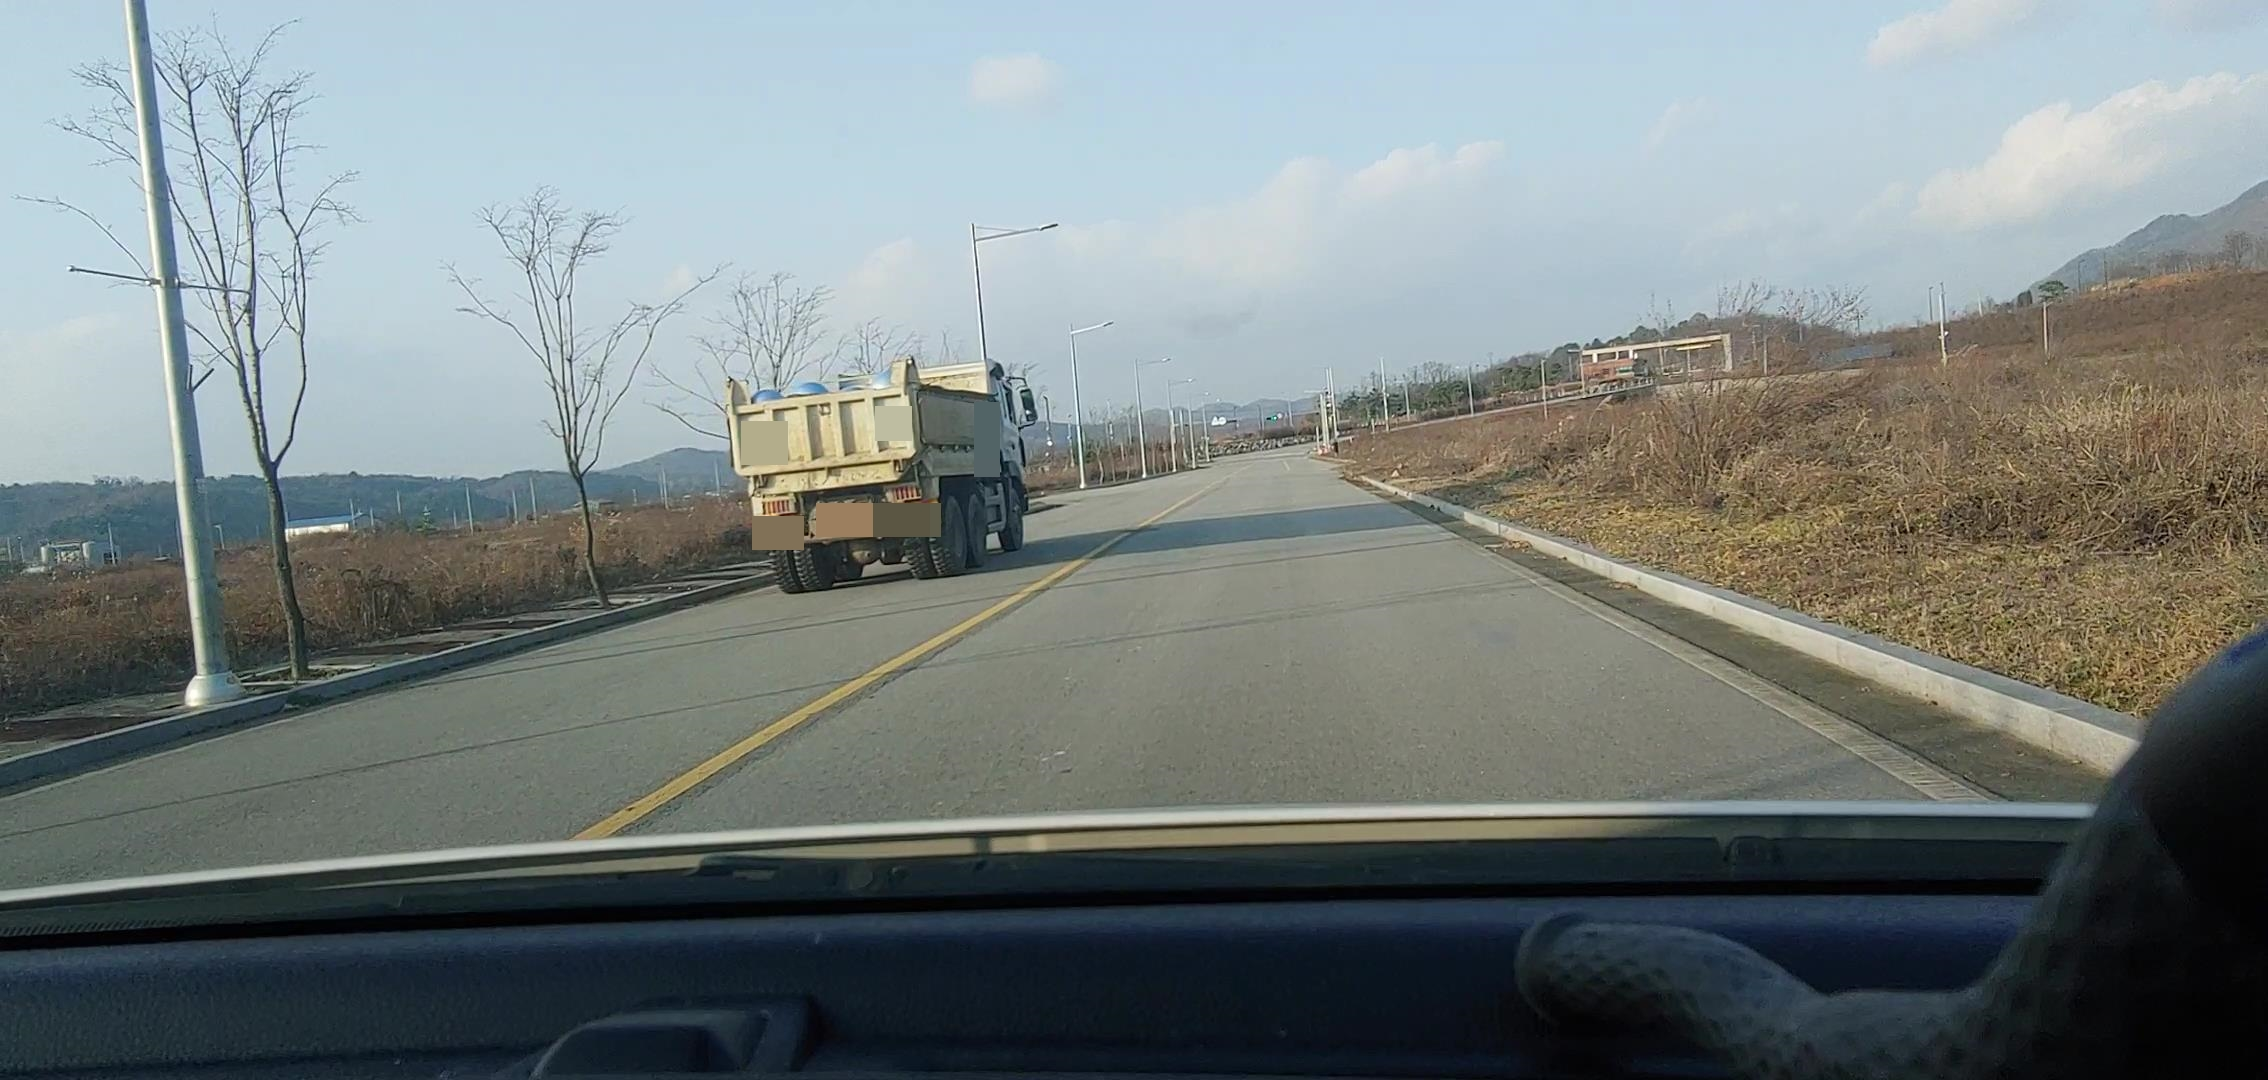불법차량: (723, 354, 1040, 596)
